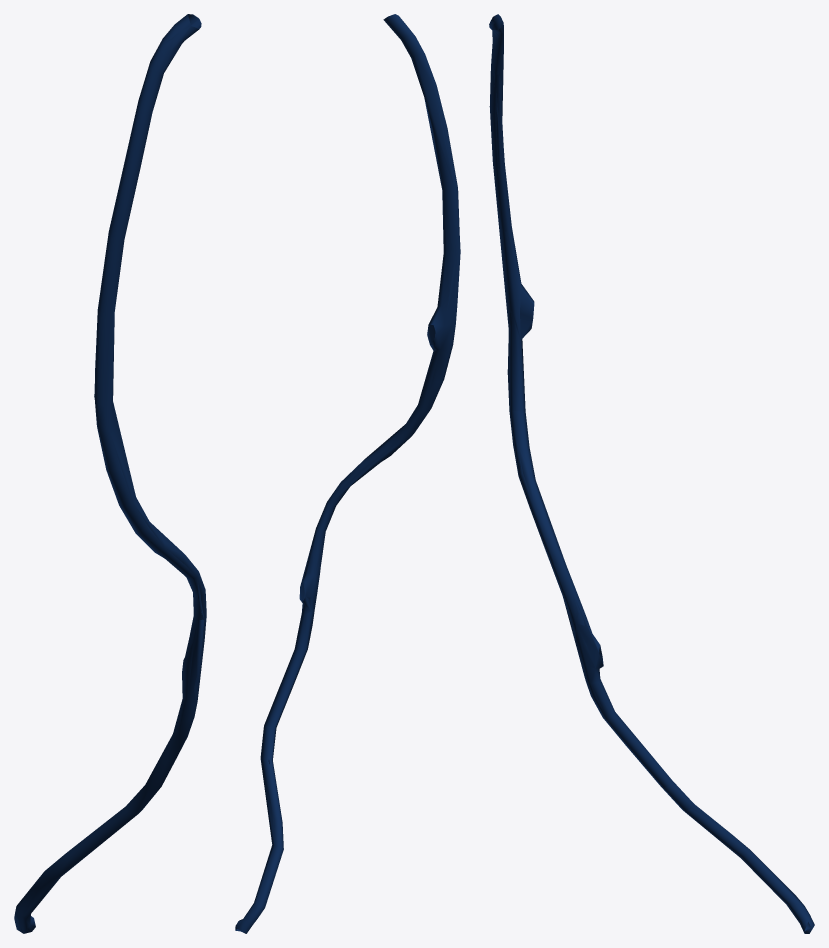
Rendered from R vena femoralis.fbx.
3 views of the same model, side by side, from view 1: azimuth 30°, elevation 25°; view 2: azimuth 150°, elevation 25°; view 3: azimuth 270°, elevation 25° (orthographic). The views are drawn at different scales.
Parts seen in each view (by area): view 1: R vena femoralis, R vena femoralis low; view 2: R vena femoralis, R vena femoralis low; view 3: R vena femoralis, R vena femoralis low.
Part boxes in pixels (<box>): R vena femoralis: <box>14,14,206,933</box>; R vena femoralis low: <box>15,14,205,933</box>; R vena femoralis: <box>235,14,460,933</box>; R vena femoralis low: <box>239,22,459,933</box>; R vena femoralis: <box>489,14,814,933</box>; R vena femoralis low: <box>491,14,810,933</box>.
Size of the model in its own units: 5.81 by 37.3 by 12.08.
